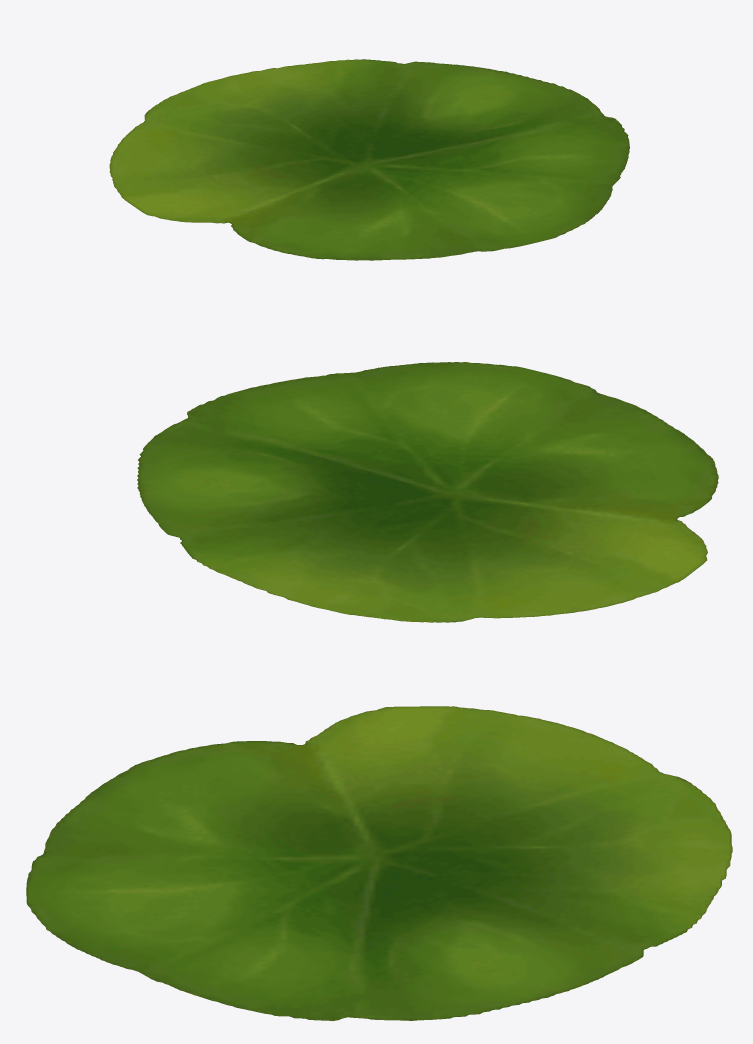
The model's file is LotusL02.FBX.
The picture shows the model from 3 angles, top to bottom: view 1: azimuth 30°, elevation 25°; view 2: azimuth 150°, elevation 25°; view 3: azimuth 270°, elevation 25°; orthographic projection. The views are drawn at different scales.
Parts seen in each view (by area): view 1: Lotus02; view 2: Lotus02; view 3: Lotus02.
Part boxes in pixels (bbox=[...]): Lotus02: bbox=[109, 59, 629, 260]; Lotus02: bbox=[137, 362, 718, 622]; Lotus02: bbox=[26, 706, 732, 1020].
Size of the model in its own units: 234 by 217 by 0.00027.
Materials: 1 (1 with a texture image).
